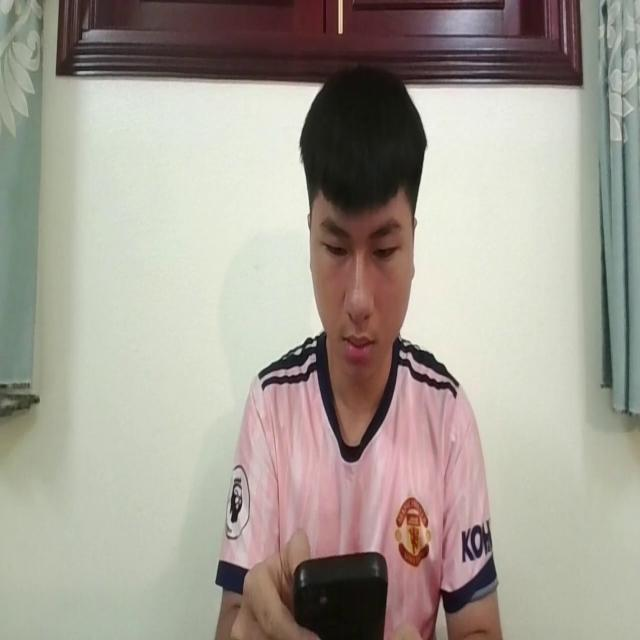phone: (292, 540, 390, 640)
student: (204, 58, 508, 640)
